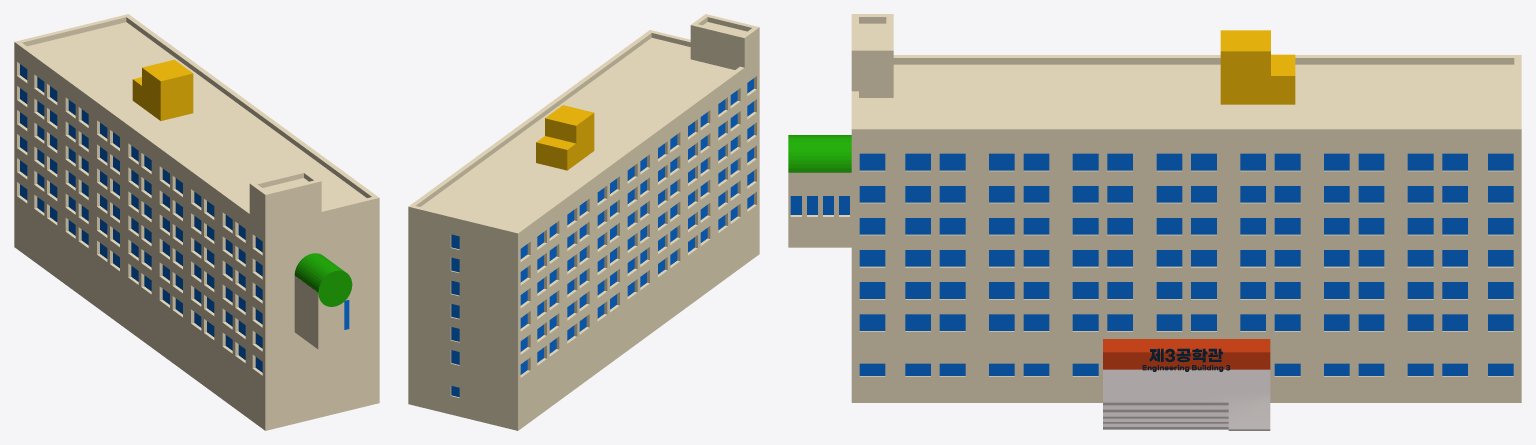
Rendered from 제3공학관.fbx.
3 views of the same model, side by side, from view 1: azimuth 30°, elevation 25°; view 2: azimuth 150°, elevation 25°; view 3: azimuth 270°, elevation 25° (orthographic). The views are drawn at different scales.
Parts seen in each view (by area): view 1: Cube_1, Cube_140, Cube_5, Cube_30, Tube; view 2: Cube_1, Cube_140, Cube_5, Cube_4; view 3: Cube_1, Cube_62, Cube_5, Cube_30, Tube, Cube_63, Cube_64, Cube_126, Extrude_1.
Boxes of the visible parts, bbox=[...] form: Cube_1: bbox=[14, 14, 379, 430]; Cube_140: bbox=[20, 64, 262, 372]; Cube_5: bbox=[132, 59, 193, 120]; Cube_30: bbox=[294, 276, 352, 349]; Tube: bbox=[294, 253, 352, 306]; Cube_1: bbox=[408, 14, 759, 430]; Cube_140: bbox=[520, 78, 753, 374]; Cube_5: bbox=[536, 105, 594, 170]; Cube_4: bbox=[451, 234, 459, 397]; Cube_1: bbox=[851, 14, 1521, 430]; Cube_62: bbox=[859, 153, 1513, 330]; Cube_5: bbox=[1220, 30, 1295, 104]; Cube_30: bbox=[788, 172, 851, 247]; Tube: bbox=[788, 135, 851, 172]; Cube_63: bbox=[859, 363, 1098, 375]; Cube_64: bbox=[1274, 363, 1513, 375]; Cube_126: bbox=[790, 196, 849, 214]; Extrude_1: bbox=[1149, 348, 1222, 362].
Size of the model in its own units: 330 by 483 by 1002.
